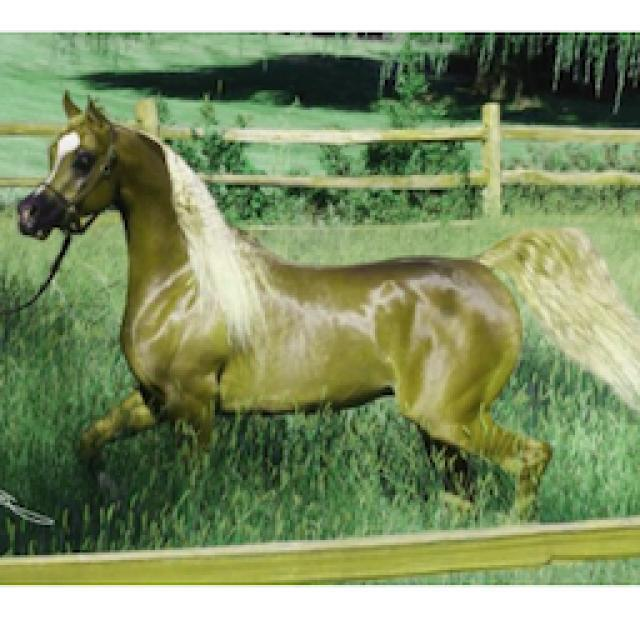Horse: (5, 85, 640, 525)
